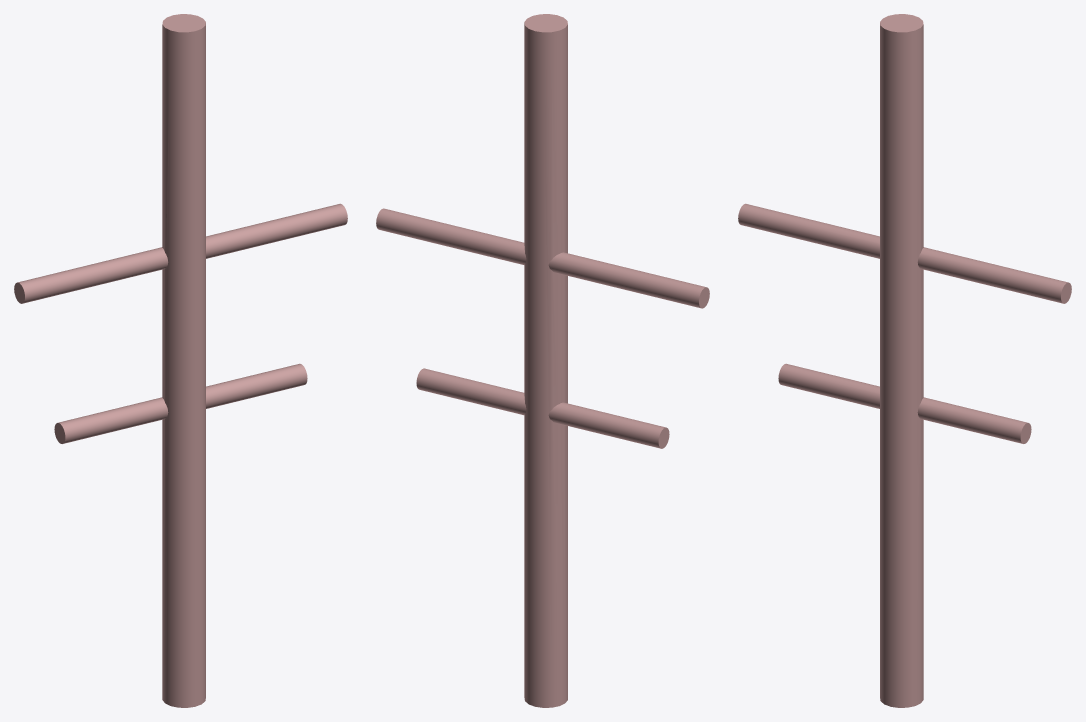
Rendered from Sail1_Mast.fbx.
3 views of the same model, side by side, from view 1: azimuth 30°, elevation 25°; view 2: azimuth 150°, elevation 25°; view 3: azimuth 330°, elevation 25° (orthographic).
Parts seen in each view (by area): view 1: Model; view 2: Model; view 3: Model.
Boxes of the visible parts, left/top/right/bottom form: Model: left=14, top=14, right=347, bottom=707; Model: left=376, top=14, right=709, bottom=707; Model: left=738, top=14, right=1071, bottom=707.
Bounding box in the file's own units: 328 × 657 × 38.76.
